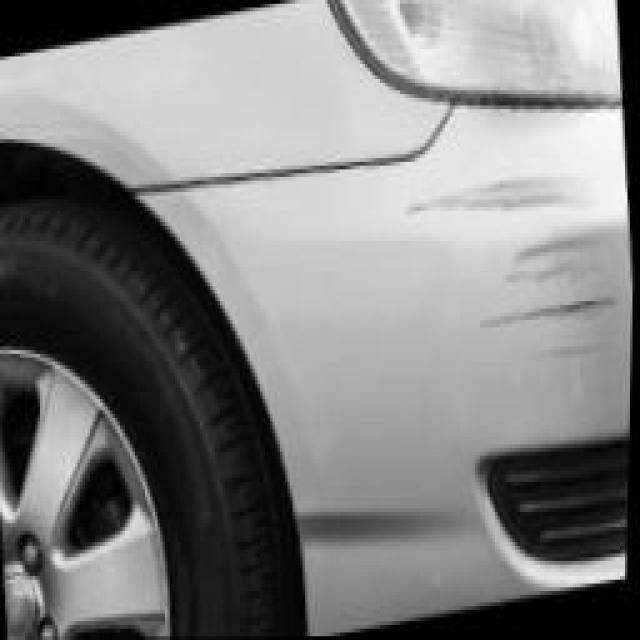Bumper: (383, 147, 633, 370)
